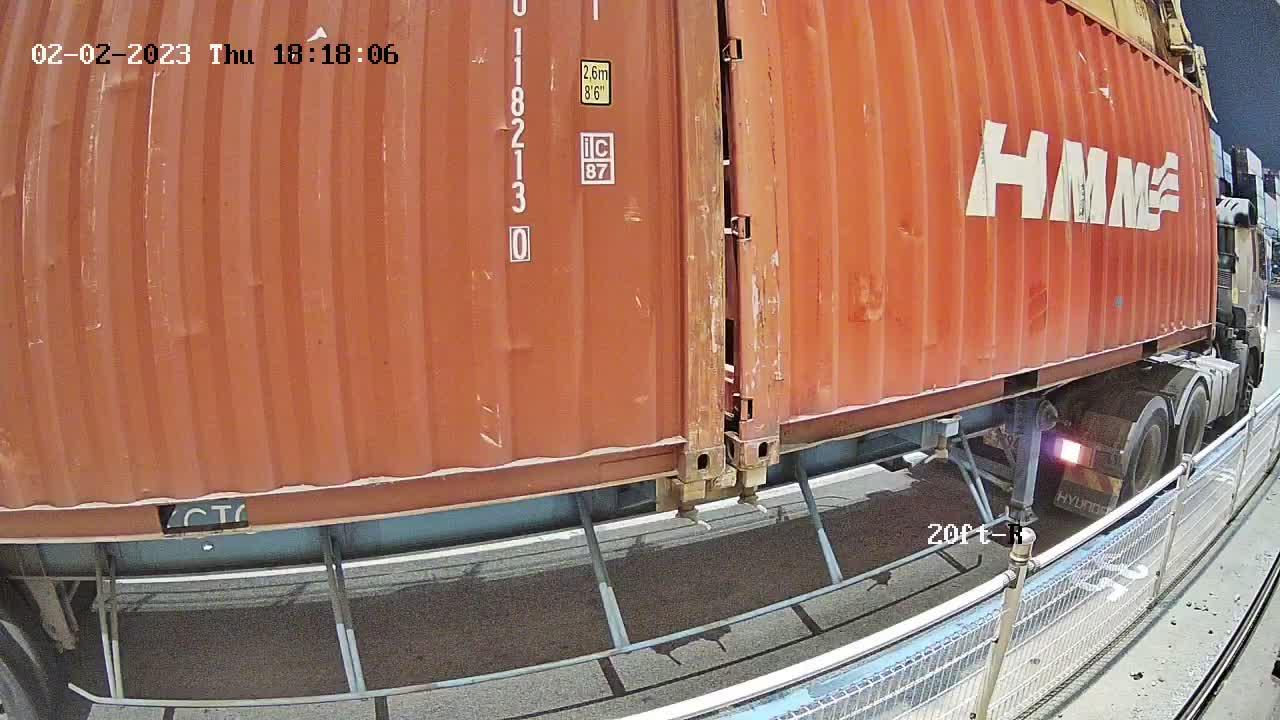Cone: (669, 478, 713, 532), (737, 465, 774, 519)
Hole_L: (744, 386, 819, 469)
Hole_R: (635, 413, 724, 480)
Tire: (1127, 415, 1169, 511), (1175, 389, 1209, 479)
